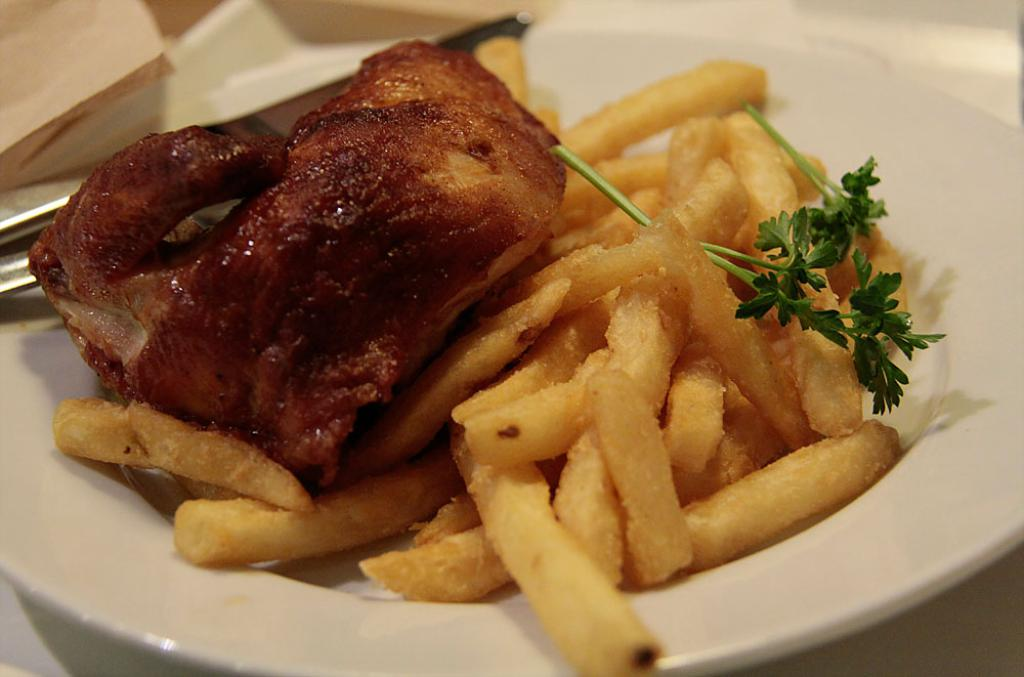French fries: (352, 152, 901, 632)
